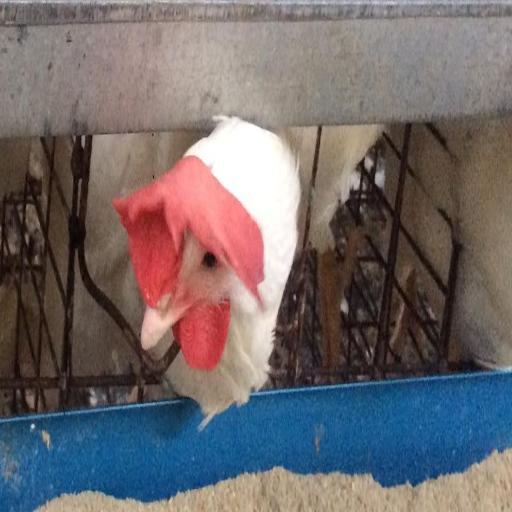healthy: (118, 138, 262, 358)
